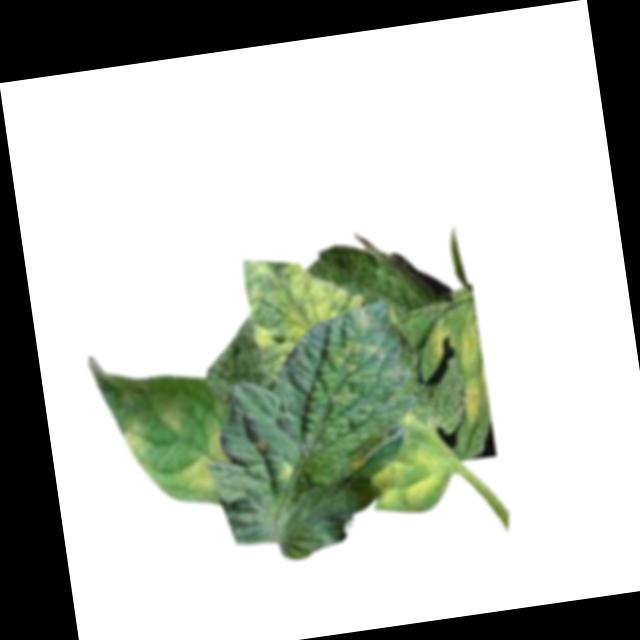Leaf_Mold: (241, 243, 376, 379), (365, 441, 457, 521), (173, 426, 238, 498), (325, 337, 386, 384), (120, 420, 157, 477), (454, 320, 486, 377), (456, 374, 490, 425), (429, 322, 458, 363), (155, 397, 187, 434), (325, 384, 363, 413), (275, 456, 298, 485), (344, 450, 369, 475)
